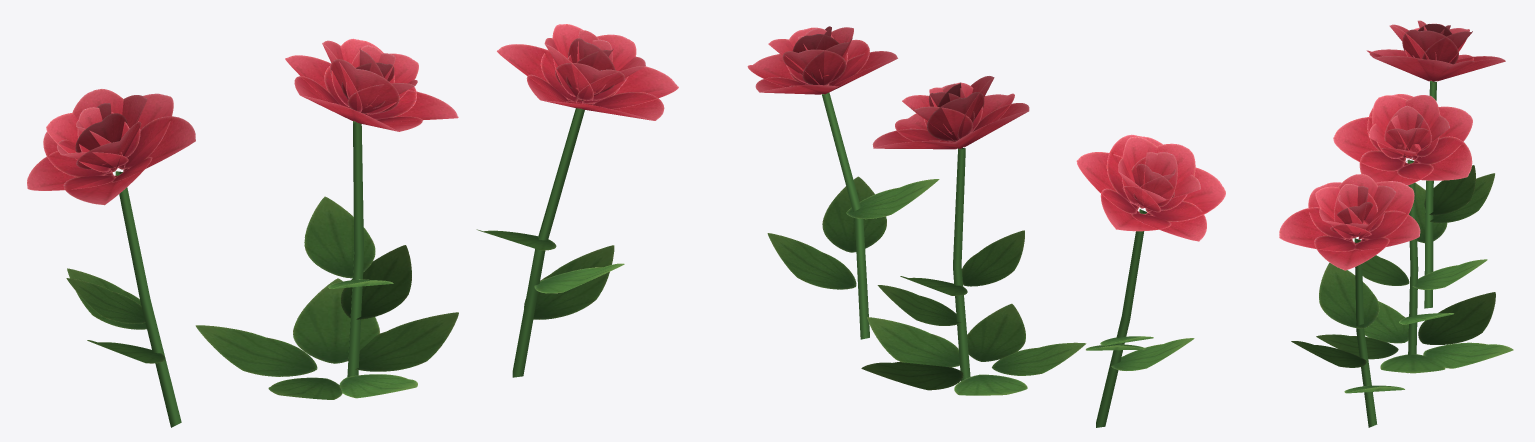
Rendered from flower-rose.glb.
The picture shows the model from 3 angles, left to right: view 1: azimuth 30°, elevation 25°; view 2: azimuth 150°, elevation 25°; view 3: azimuth 270°, elevation 25°; orthographic projection. The views are drawn at different scales.
Visible parts, largest first — view 1: Flower; view 2: Flower; view 3: Flower.
Boxes of the visible parts, x1,y1,x2,y2 form: Flower: (27,24,678,427); Flower: (747,26,1225,427); Flower: (1279,20,1513,427).
Bounding box in the file's own units: 0.8504 × 0.4871 × 0.3887.
Materials: 1 (1 with a texture image).
